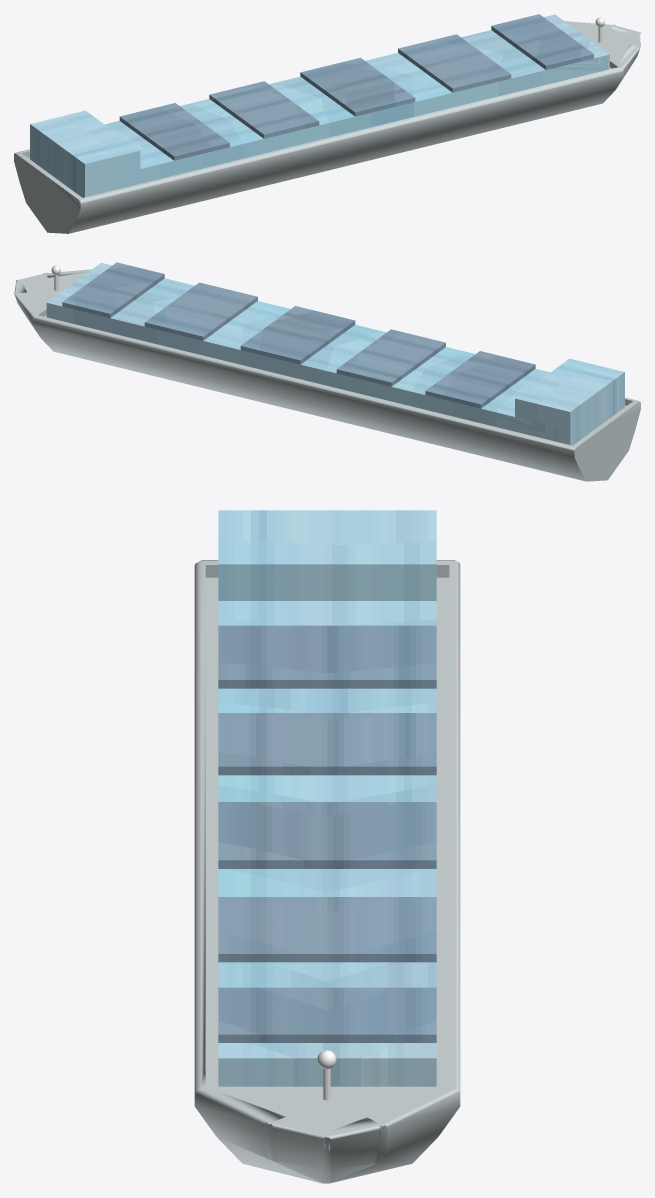
File: ship.gltf
3 renders of one model, top to bottom at view 1: azimuth 30°, elevation 25°; view 2: azimuth 150°, elevation 25°; view 3: azimuth 270°, elevation 25°, orthographic. The views are drawn at different scales.
Visible parts, largest first — view 1: shipnew; view 2: shipnew; view 3: shipnew.
Boxes of the visible parts, box(x1,y1,x2,y2) form: shipnew: box(14, 14, 640, 233); shipnew: box(14, 262, 640, 481); shipnew: box(194, 510, 460, 1183).
Size of the model in its own units: 14146 by 1961 by 2748.
4 materials, 3 textured.
